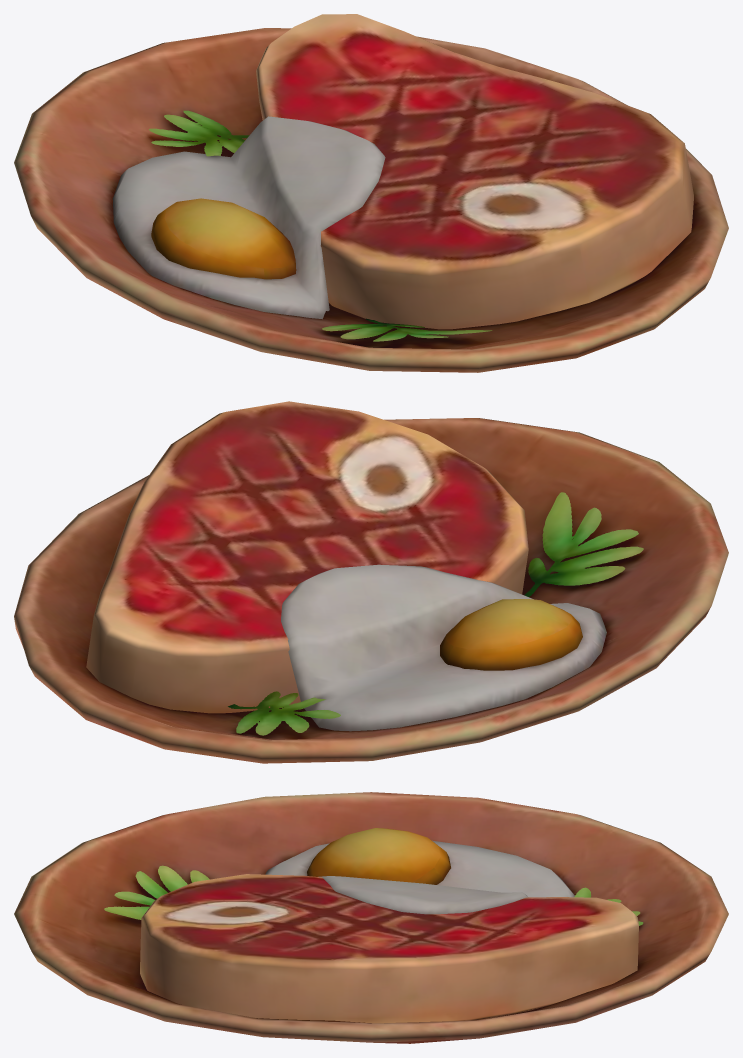
3 views of the same model, one above another, from view 1: azimuth 30°, elevation 25°; view 2: azimuth 150°, elevation 25°; view 3: azimuth 270°, elevation 25° (orthographic). The views are drawn at different scales.
Parts seen in each view (by area): view 1: SM_Item_Food_Steak_And_Eggs_LOD0; view 2: SM_Item_Food_Steak_And_Eggs_LOD0; view 3: SM_Item_Food_Steak_And_Eggs_LOD0.
Boxes of the visible parts, x1,y1,x2,y2 form: SM_Item_Food_Steak_And_Eggs_LOD0: (14,14,728,372); SM_Item_Food_Steak_And_Eggs_LOD0: (14,401,728,763); SM_Item_Food_Steak_And_Eggs_LOD0: (14,792,728,1043).
Size of the model in its own units: 0.3578 by 0.0798 by 0.4454.
1 material, 1 textured.
